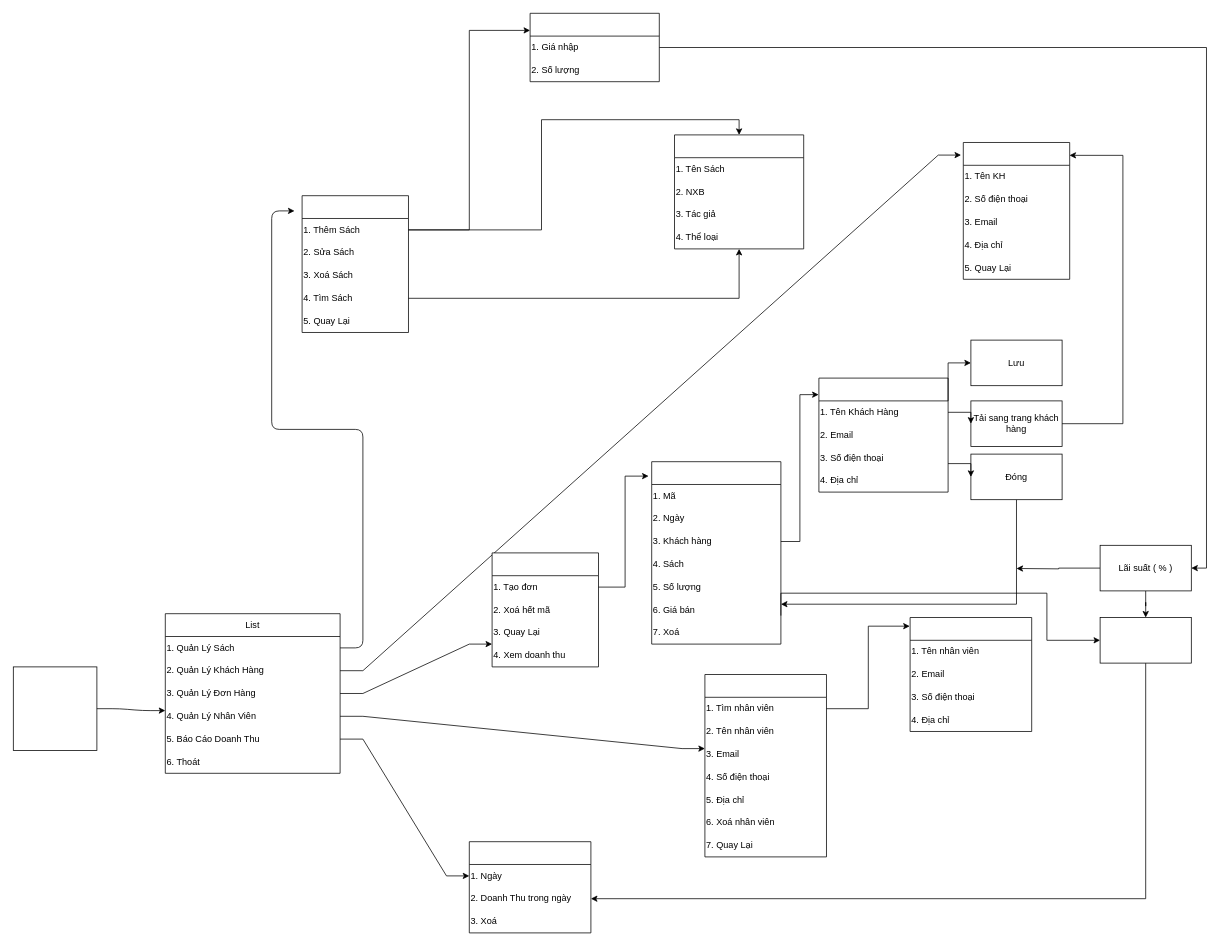
Image size: 1226x946. Some labels were removed from this diagram. Here are the shapes that lost their labels. From the top down, the centre of each, then its label:
the point at 1145,640: Lợi nhuận
the point at 55,708: Quản lý hiệu sách
